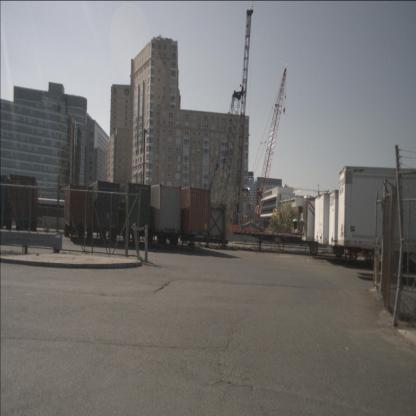barrier: (255, 234, 271, 244), (239, 233, 256, 242), (226, 233, 240, 242)
